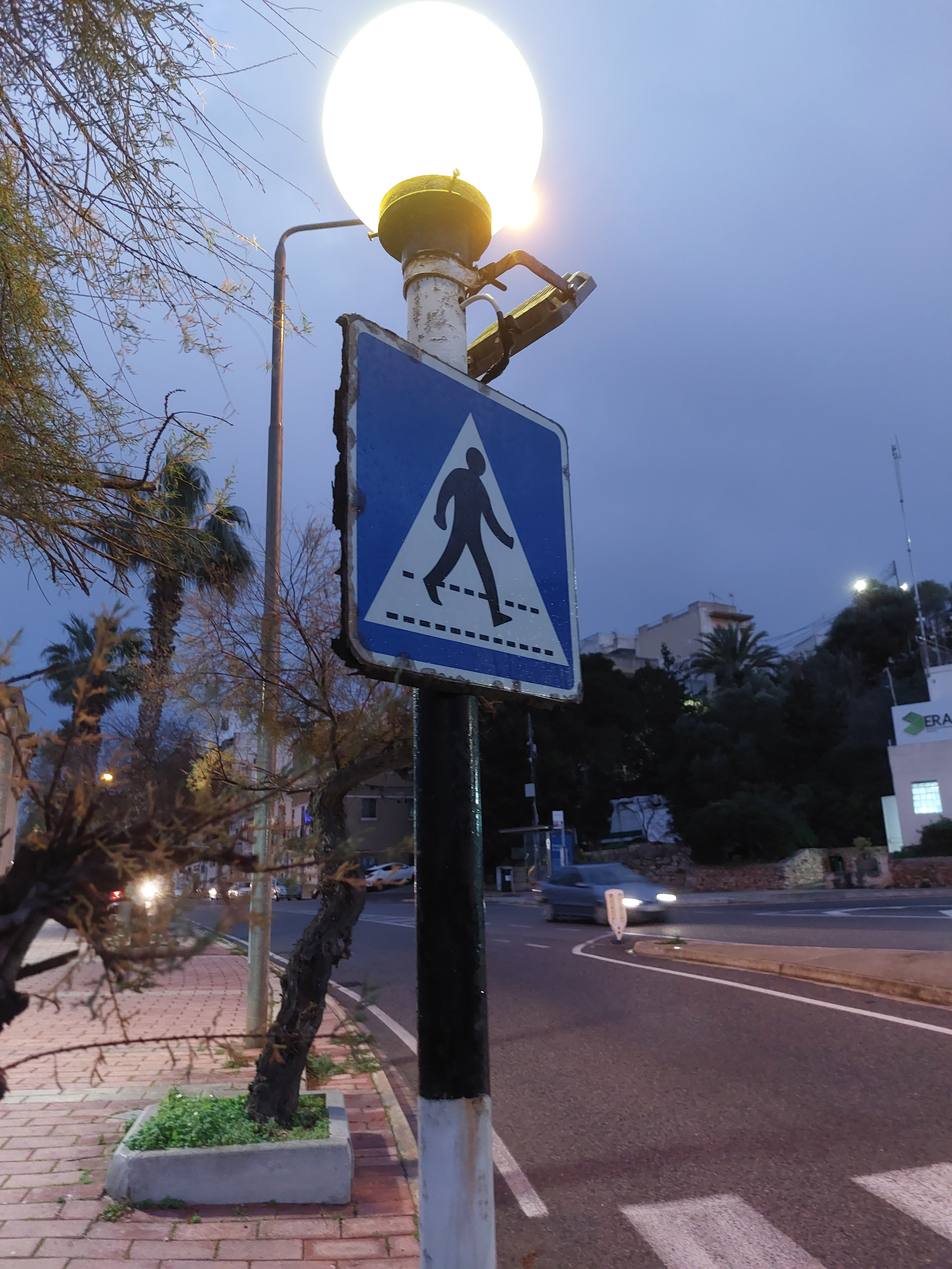Directional Sign: (604, 889, 628, 941)
Pedestrian Crossing: (333, 313, 583, 709)
